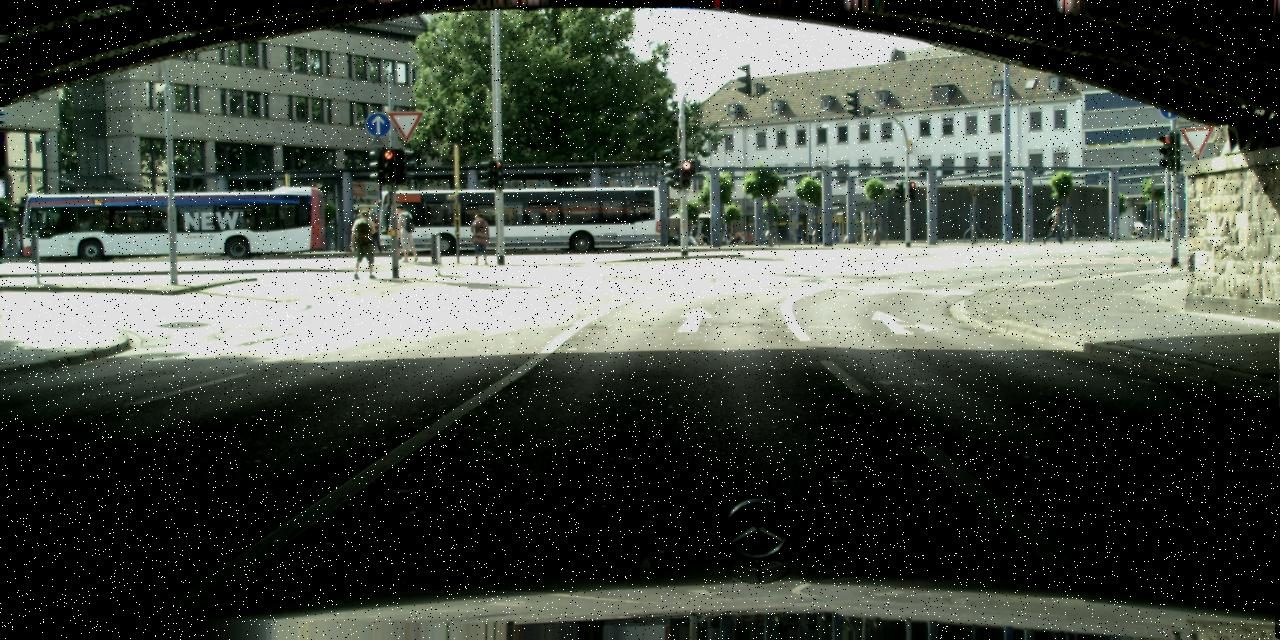ped: (350, 210, 378, 278), (392, 203, 415, 260), (386, 203, 408, 259), (469, 212, 490, 264), (367, 213, 382, 253), (1047, 206, 1062, 244), (721, 232, 759, 245), (689, 226, 710, 246)
